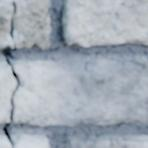brick: (62, 0, 147, 46), (65, 133, 147, 147)
broken_brick: (13, 58, 147, 127), (15, 0, 51, 50), (0, 61, 14, 123), (0, 0, 11, 48), (14, 133, 50, 147), (0, 135, 9, 147)
crack: (0, 0, 21, 147)
